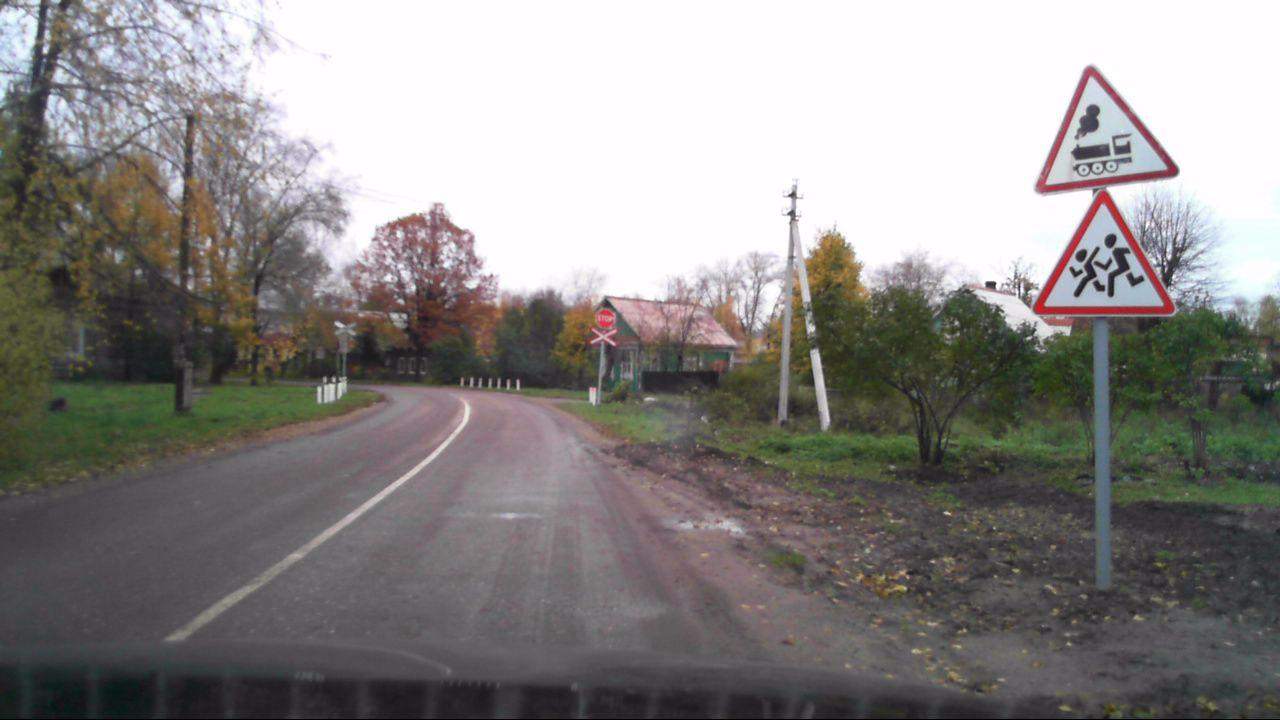1_2: (1022, 53, 1189, 200)
1_23: (1031, 190, 1183, 320)
1_3_1: (587, 327, 622, 347)
2_5: (594, 307, 615, 329)
